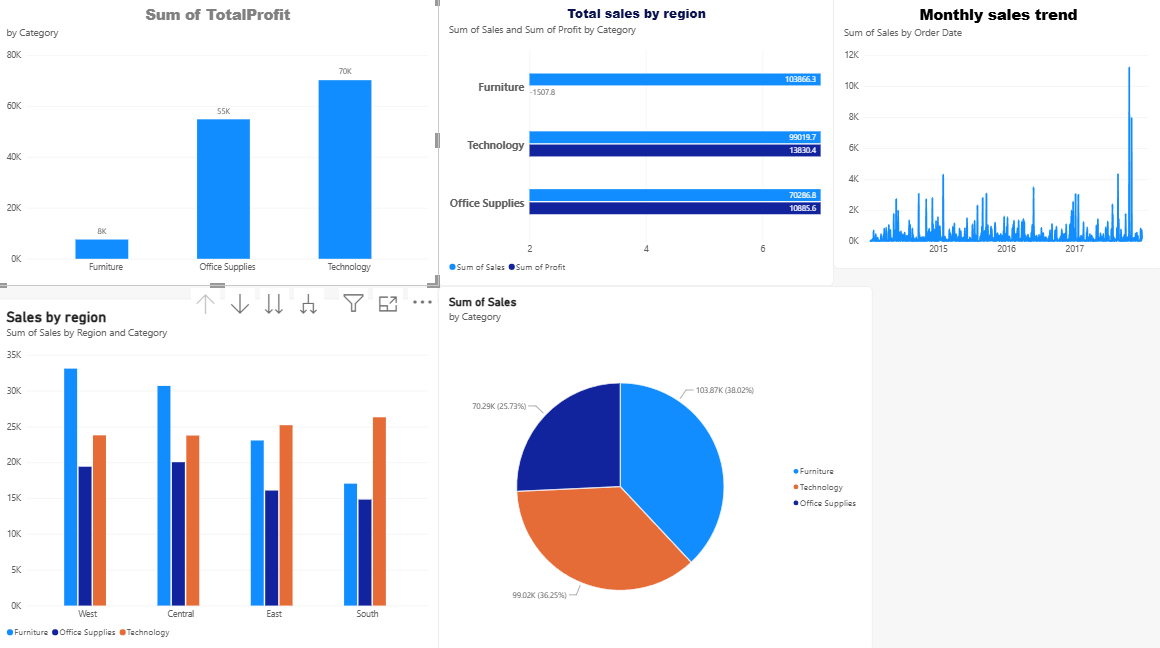

Layout of this report page (visuals, bound fields, positions):
{"tool":"powerbi","page":{"name":"Page 1","canvas":[1920,1080],"ordinal":0},"visuals":[{"type":"columnChart","fields":{"Category":["Sample - Superstore.Category","Sample - Superstore.TotalSales"],"Y":["Sum(Sample - Superstore.TotalProfit)"]},"box":[0,0,728.6,479.6],"z":0},{"type":"clusteredBarChart","title":"Total sales by region","fields":{"Category":["Sample - Superstore (2).Category"],"Y":["Sum(Sample - Superstore (2).Sales)","Sum(Sample - Superstore (2).Profit)"]},"box":[728.6,0,650.4,479.6],"z":1000},{"type":"clusteredColumnChart","title":"Sales by region","fields":{"Category":["Sample - Superstore (2).Region"],"Series":["Sample - Superstore (2).Category"],"Y":["Sum(Sample - Superstore (2).Sales)"]},"box":[0,500.2,728.6,580.4],"z":2000},{"type":"lineChart","title":"Monthly sales trend","fields":{"Category":["Sample - Superstore (2).Order Date"],"Y":["Sum(Sample - Superstore (2).Sales)"]},"box":[1379.1,0,541.3,450.8],"z":3000},{"type":"pieChart","fields":{"Category":["Sample - Superstore (2).Category"],"Y":["Sum(Sample - Superstore (2).Sales)"]},"box":[728.6,479.6,714.2,601],"z":3001}]}

Visuals, with their boxes on the page's 1920x1080 design canvas (x1, y1, x2, y2). These are canvas units, not pixel positions in the 1160x648 screenshot, which may show the page scaled, cropped or inside an application window:
columnChart - Sample - Superstore.Category x Sample - Superstore.TotalSales: bbox=[0, 0, 729, 480]
"Total sales by region" clusteredBarChart: bbox=[729, 0, 1379, 480]
"Sales by region" clusteredColumnChart: bbox=[0, 500, 729, 1081]
"Monthly sales trend" lineChart: bbox=[1379, 0, 1920, 451]
pieChart - Sample - Superstore (2).Category x Sum(Sample - Superstore (2).Sales): bbox=[729, 480, 1443, 1081]
